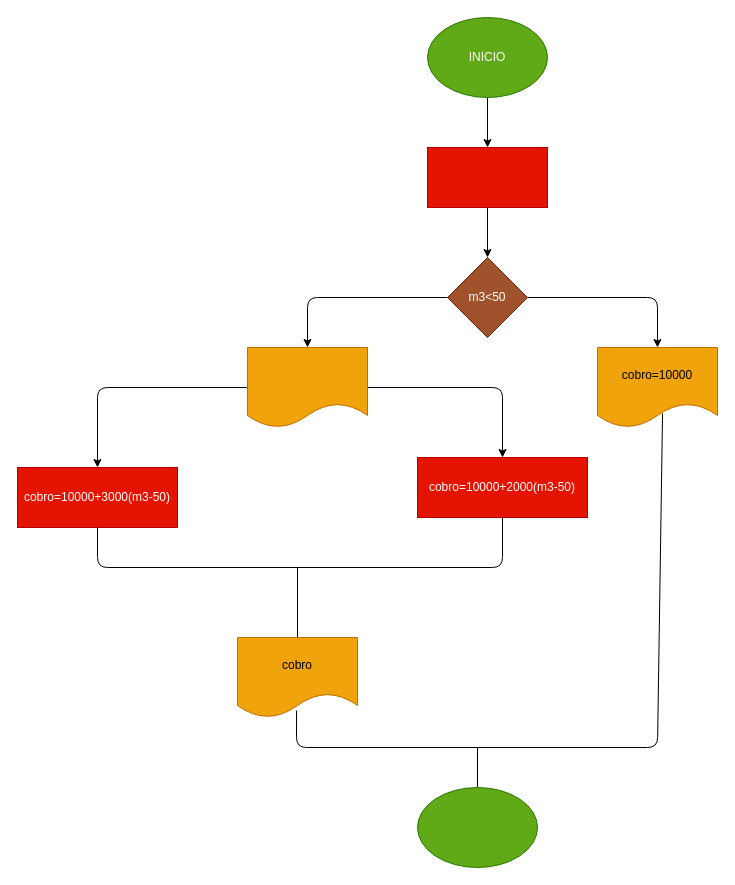
The diagram is 735 pixels wide and 885 high, and some of its shapes have lost their labels. The centre of each missing label's shape, as x and y in pixels:
"FIN" belongs at point (477, 827).
"m3 de agua gastados" belongs at point (487, 177).
"m3>=50 y m3<=200" belongs at point (307, 387).
